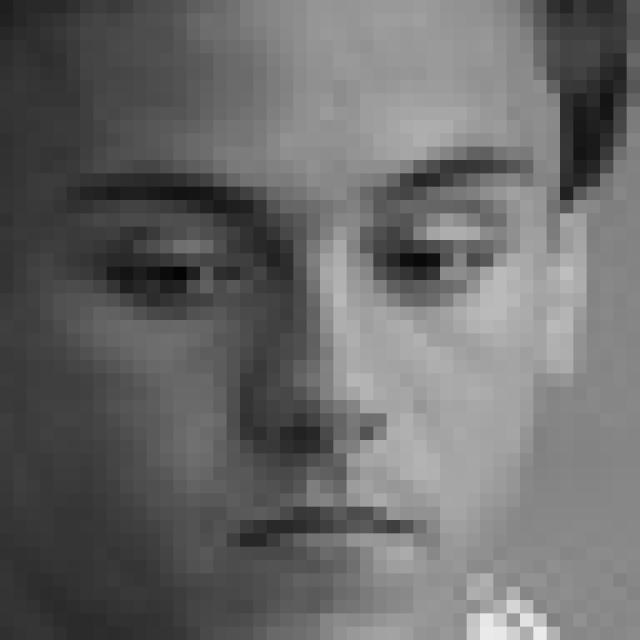sad: (47, 141, 538, 570)
